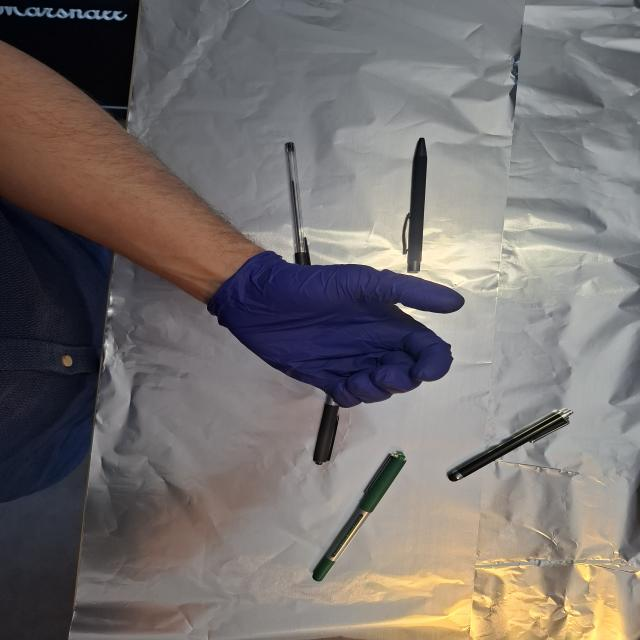glove_on: (204, 250, 468, 410)
